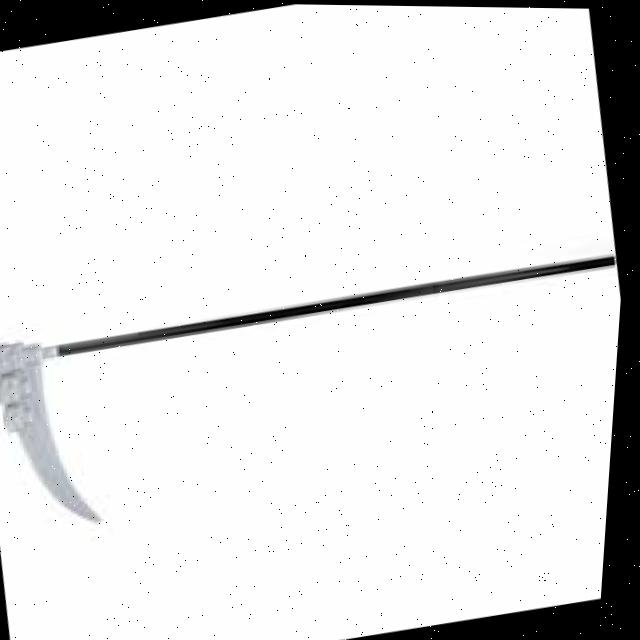sickle: (0, 141, 633, 575)
